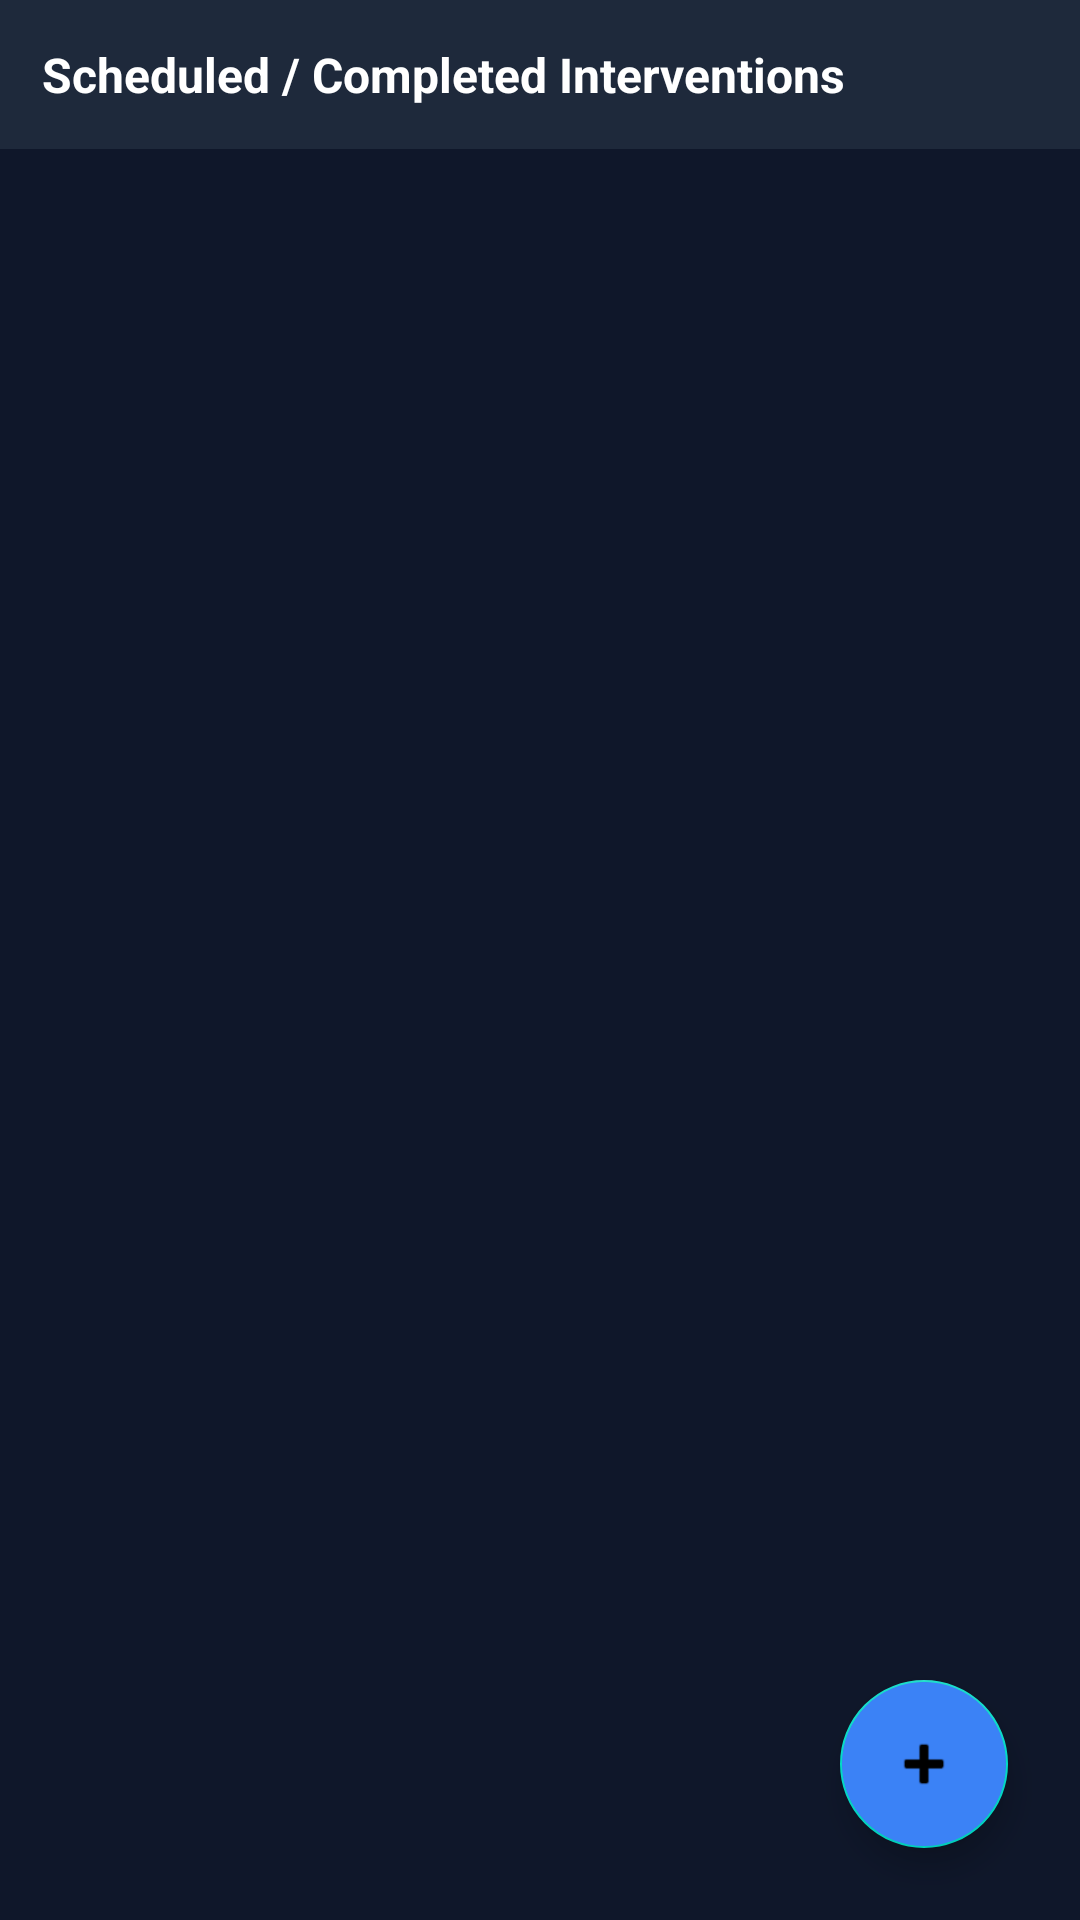

Screen size 1080*1920. Icon name, then its center in pixels as point (x, y):
New Intervention: point (924, 1764)
